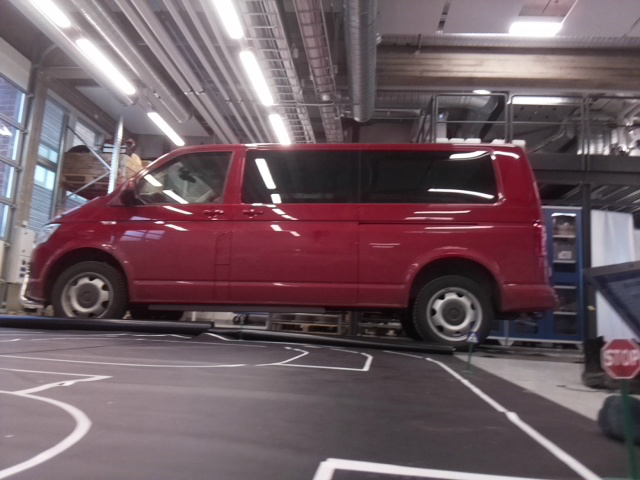Crosswalk: (467, 330, 476, 342)
Stop: (601, 339, 639, 380)
